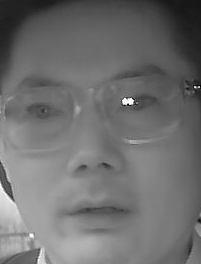eye: (26, 100, 65, 123)
glass: (99, 76, 184, 141), (6, 90, 78, 149)
mouth: (64, 194, 141, 240)
